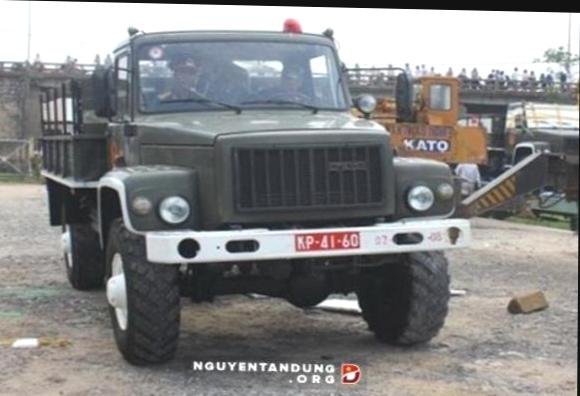License_Plate: (294, 227, 359, 256)
